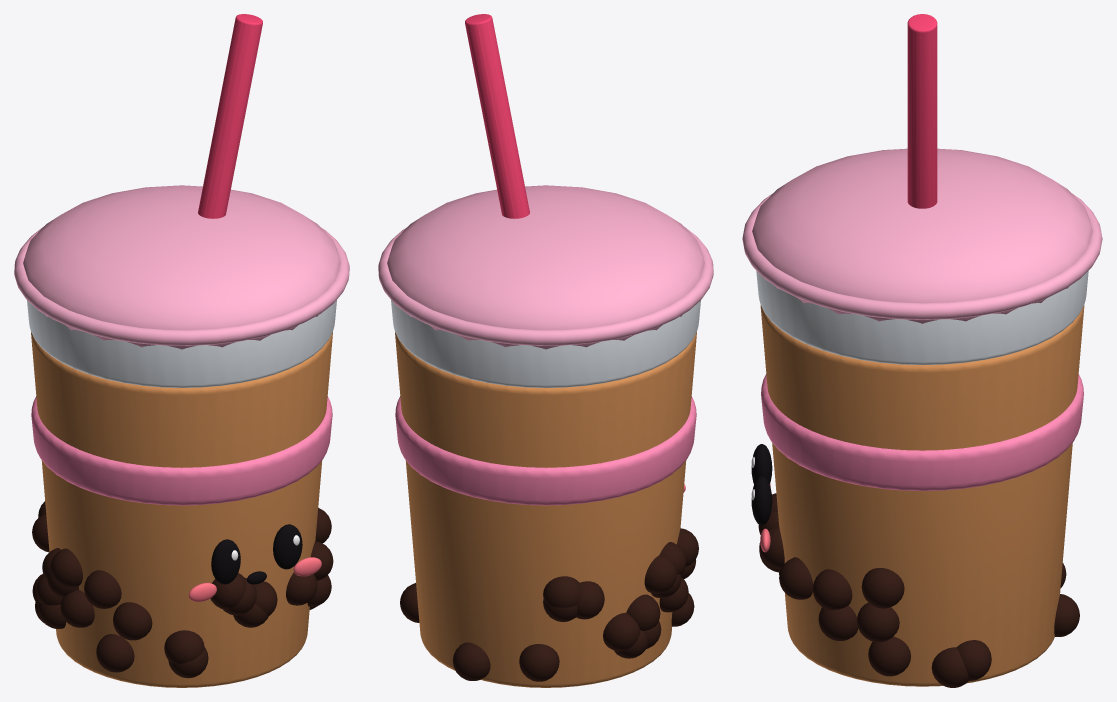
The model's file is MilkTea.glb.
3 renders of one model, left to right at view 1: azimuth 30°, elevation 25°; view 2: azimuth 150°, elevation 25°; view 3: azimuth 270°, elevation 25°, orthographic. The views are drawn at different scales.
Visible parts, largest first — view 1: Cone, Sphere.030, Cone.001, Cone.002, Torus, Cylinder, Sphere.004, Sphere.005, Sphere.029, Sphere.003, Sphere.031, Sphere.034 (+8 smaller); view 2: Cone, Sphere.030, Cone.001, Cone.002, Torus, Cylinder, Sphere.015, Sphere.014, Sphere.006, Sphere.021, Sphere.025, Sphere.012 (+5 smaller); view 3: Cone, Sphere.030, Cone.001, Cone.002, Torus, Cylinder, Sphere, Sphere.022, Sphere.008, Sphere.018, Sphere.010, Sphere.002 (+6 smaller).
Part boxes in pixels (box(x1,y1,x2,y2)): Cone: box(31, 332, 332, 687); Sphere.030: box(23, 185, 340, 349); Cone.001: box(27, 300, 336, 387); Cone.002: box(31, 396, 332, 505); Torus: box(14, 227, 349, 345); Cylinder: box(198, 14, 262, 218); Sphere.004: box(113, 602, 152, 640); Sphere.005: box(96, 634, 134, 672); Sphere.029: box(84, 570, 121, 608); Sphere.003: box(164, 630, 204, 663); Sphere.031: box(211, 539, 240, 584); Sphere.034: box(273, 524, 302, 569); Cone: box(395, 332, 696, 687); Sphere.030: box(387, 185, 704, 349); Cone.001: box(391, 300, 700, 387); Cone.002: box(395, 396, 696, 505); Torus: box(378, 227, 713, 345); Cylinder: box(465, 14, 529, 218); Sphere.015: box(519, 644, 559, 681); Sphere.014: box(453, 642, 490, 680); Sphere.006: box(603, 612, 640, 651); Sphere.021: box(543, 576, 580, 607); Sphere.025: box(644, 555, 677, 593); Sphere.012: box(576, 581, 604, 619); Cone: box(760, 305, 1084, 686); Sphere.030: box(752, 148, 1092, 323); Cone.001: box(756, 271, 1088, 365); Cone.002: box(761, 374, 1083, 491); Torus: box(742, 193, 1102, 319); Cylinder: box(907, 14, 937, 208); Sphere: box(861, 568, 904, 608); Sphere.022: box(868, 636, 910, 676); Sphere.008: box(857, 602, 899, 642); Sphere.018: box(812, 569, 852, 609); Sphere.010: box(931, 647, 968, 687); Sphere.002: box(779, 557, 813, 599).
Bounding box in the file's own units: 1.66 × 3.29 × 1.66.
